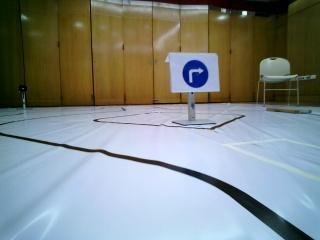right: (171, 51, 219, 96)
